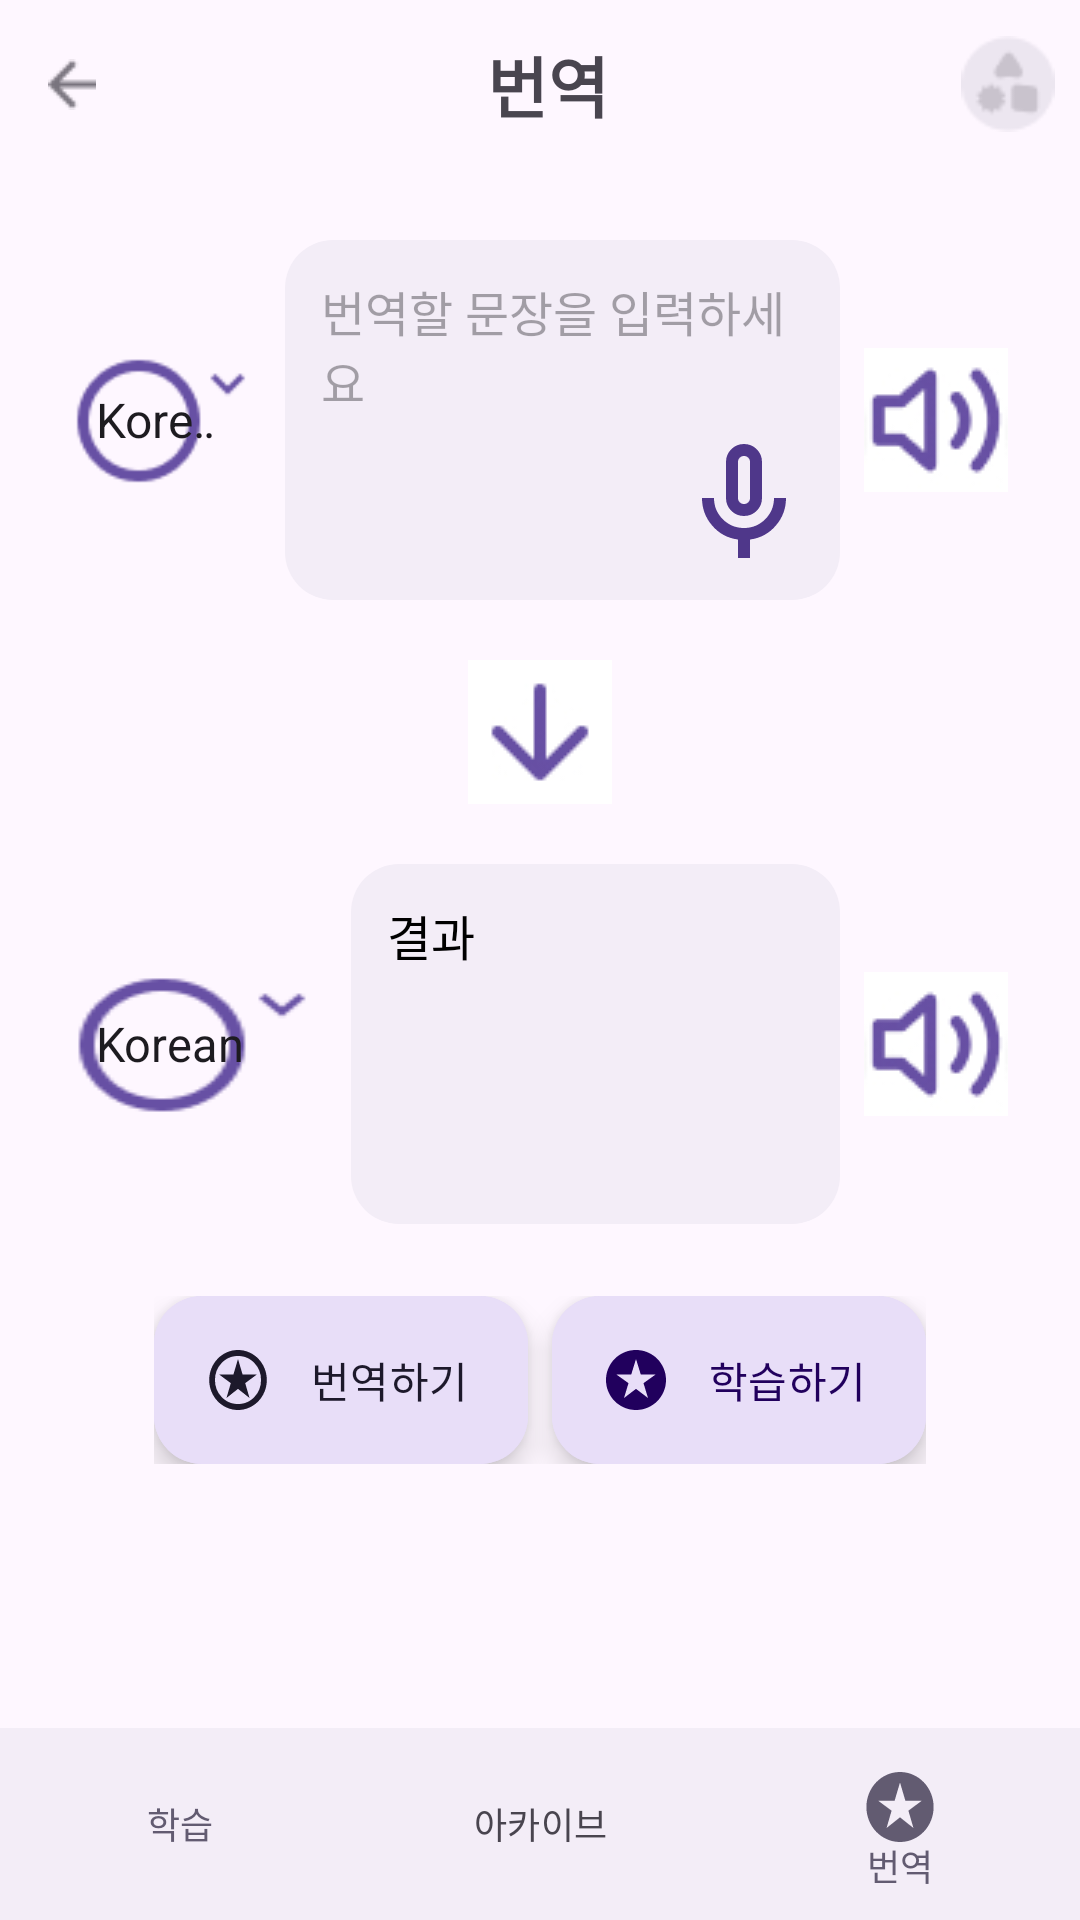

Point at icon controls on the screen. Image size 1080*1920, points as point (x, y).
Play Input Audio: point (936, 420)
Play Output Audio: point (936, 1044)
뒤로가기: point (72, 84)
음성 입력: point (744, 501)
